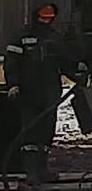gloves: (5, 87, 21, 102)
helmet: (37, 4, 56, 18)
vest: (7, 21, 64, 104)
